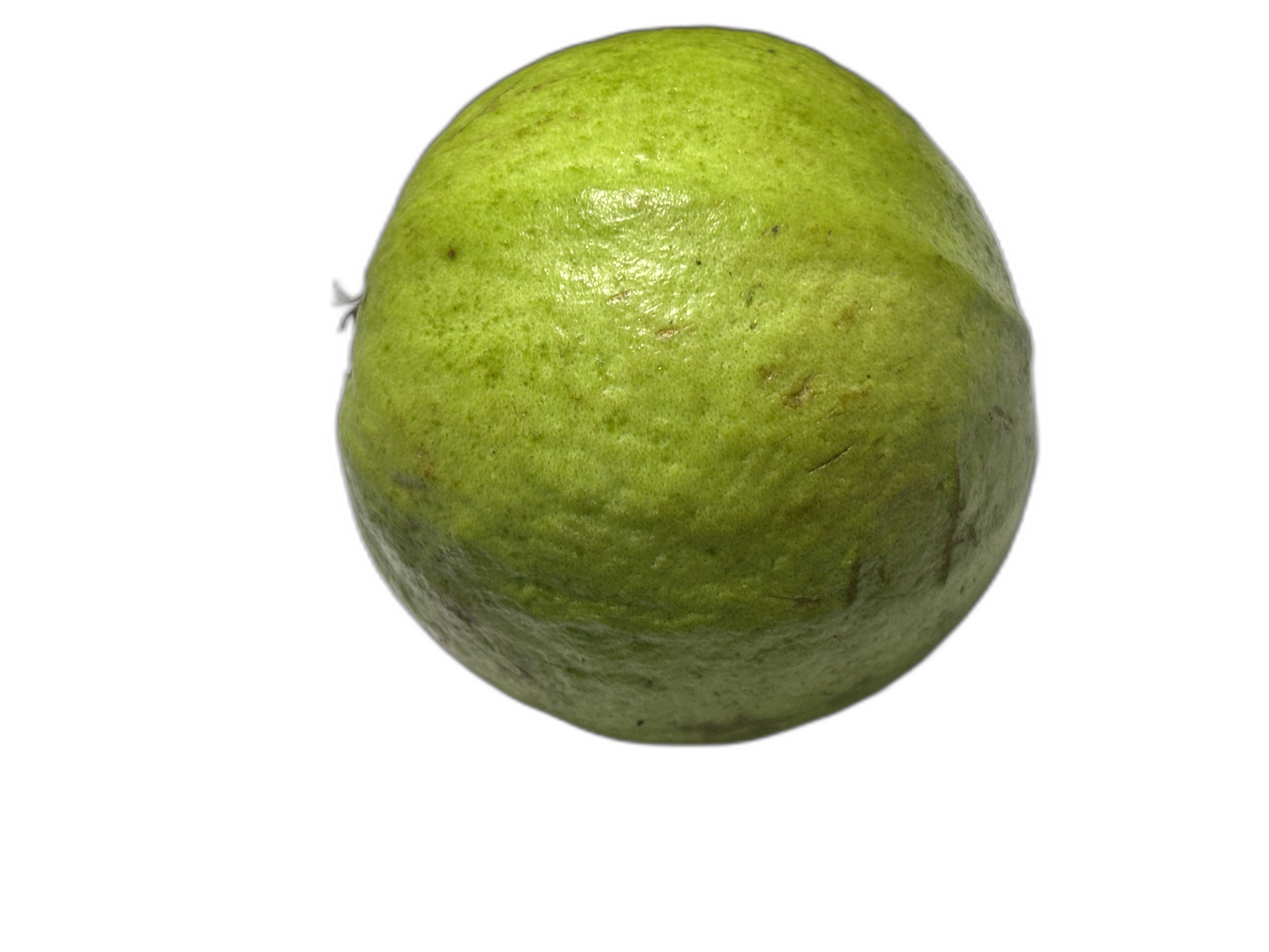guava: (236, 163, 1019, 864)
